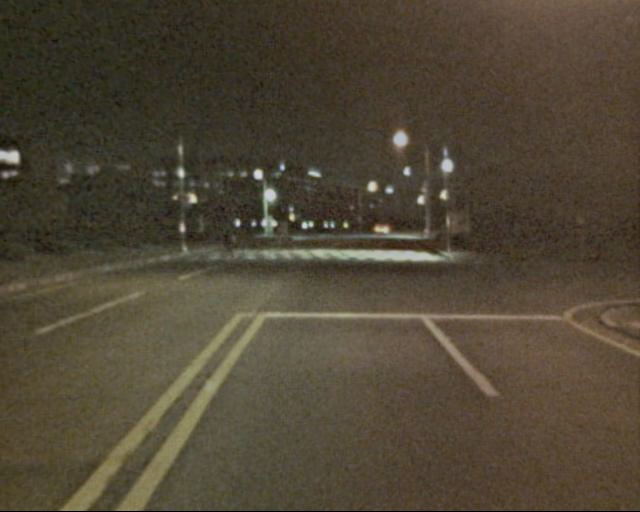person: (218, 223, 237, 269)
